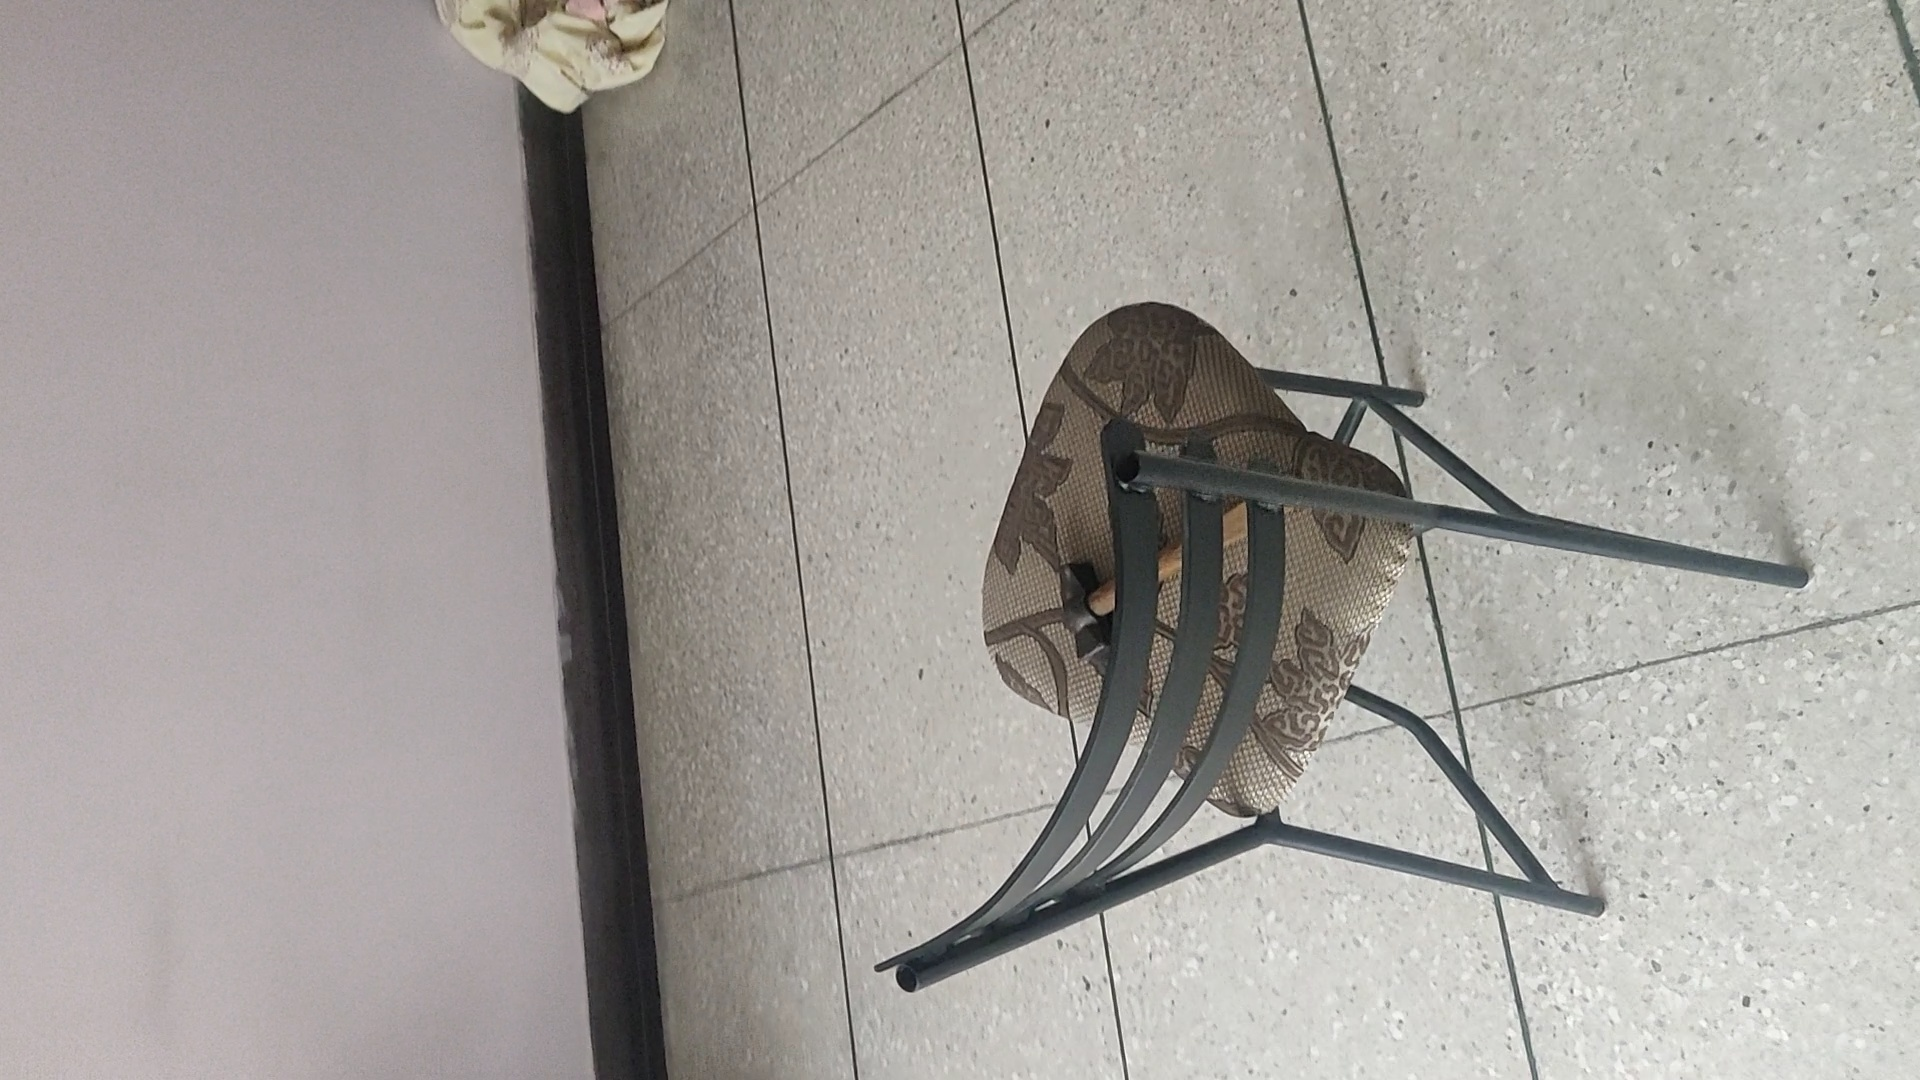hammer: (1054, 493, 1291, 662)
